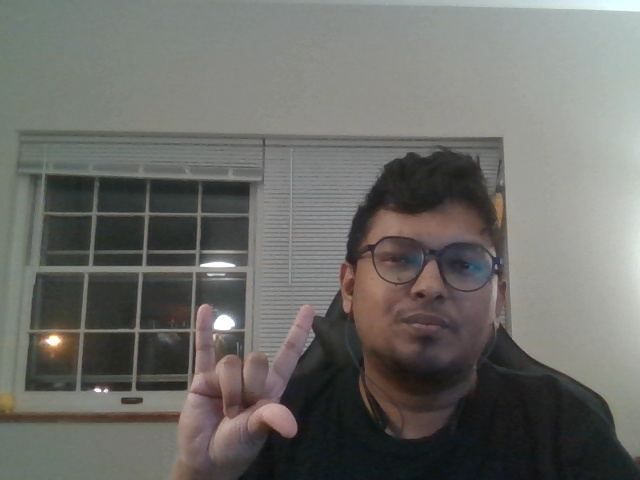ilikeyou: (172, 287, 321, 473)
